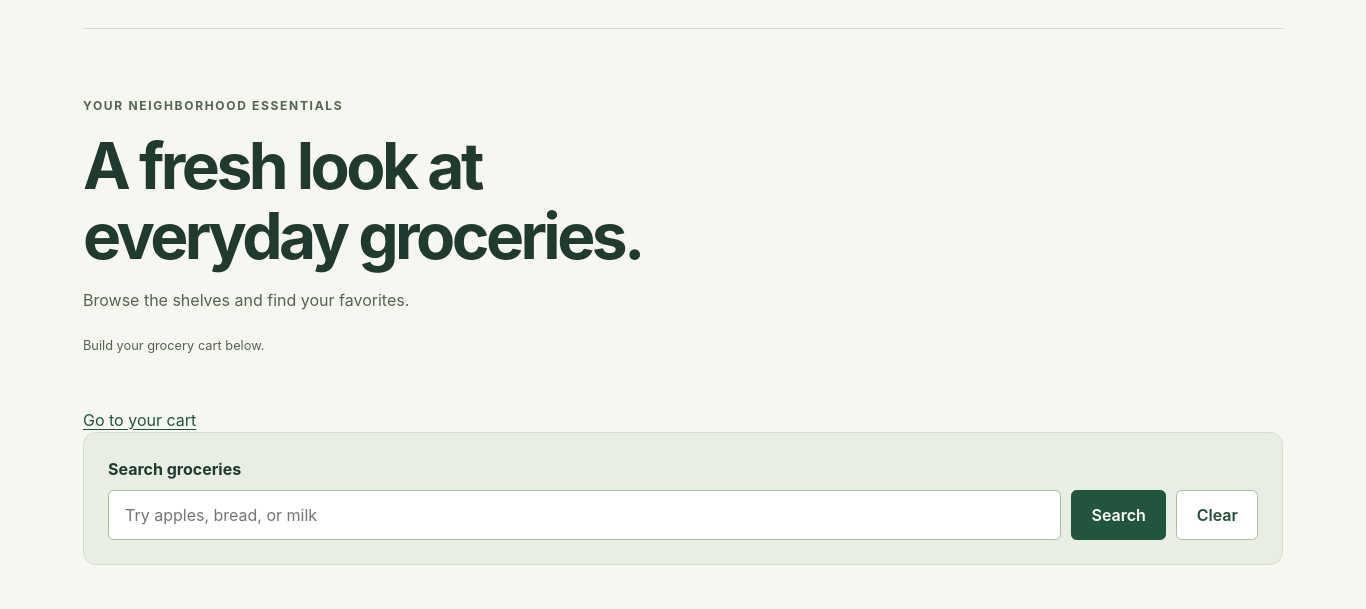
Test case: storefront cart › adds, updates absolutely, removes, displays cents and preserves search and input focus
Type "draft search" into the search field labelled "Search groceries" at [584, 515], box top-left (108, 490), bottom-right (1061, 540)
(page scrolled)
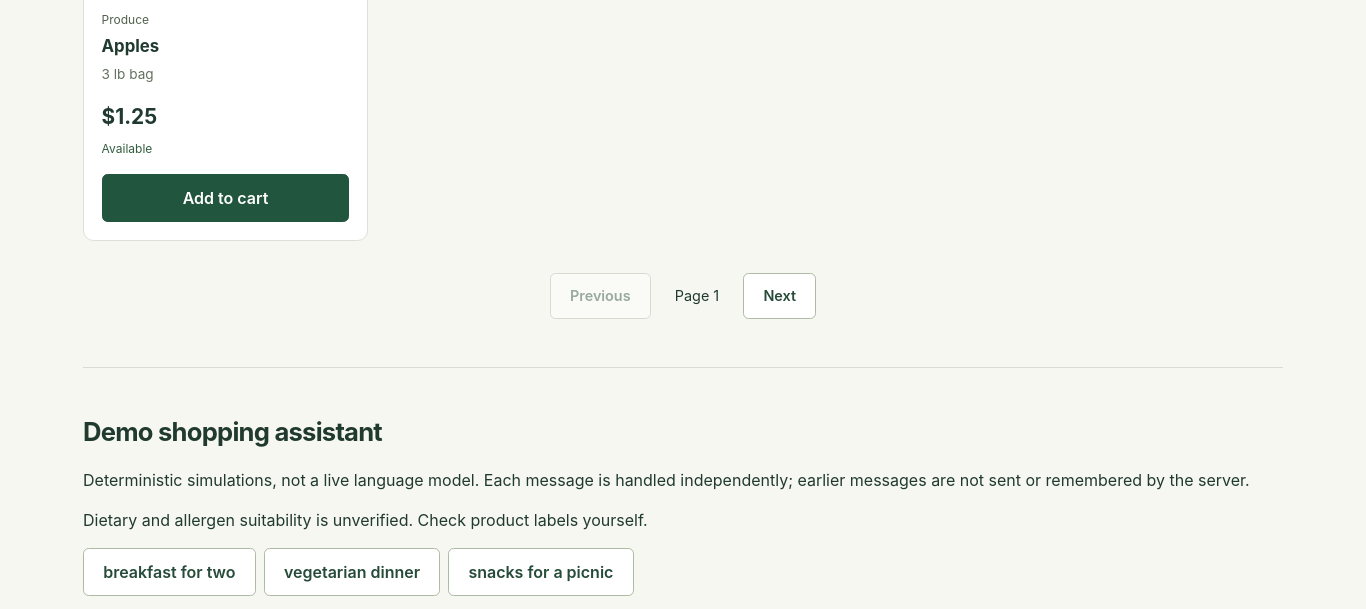
Click the button "Next" at [780, 296], box top-left (743, 273), bottom-right (816, 319)
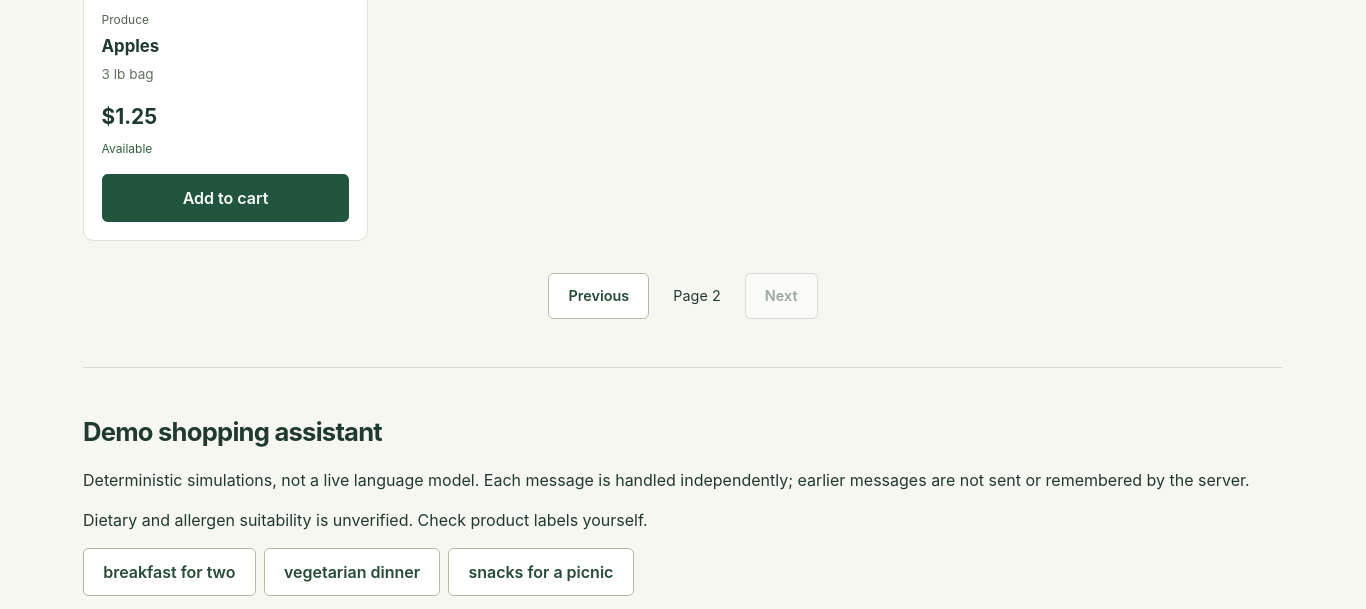
Result: the text "Page 2" is shown at top-left (673, 285), bottom-right (721, 307)
Click the button with aria-label "Add Apples to cart" at [226, 198], box top-left (102, 174), bottom-right (349, 222)
(page scrolled)
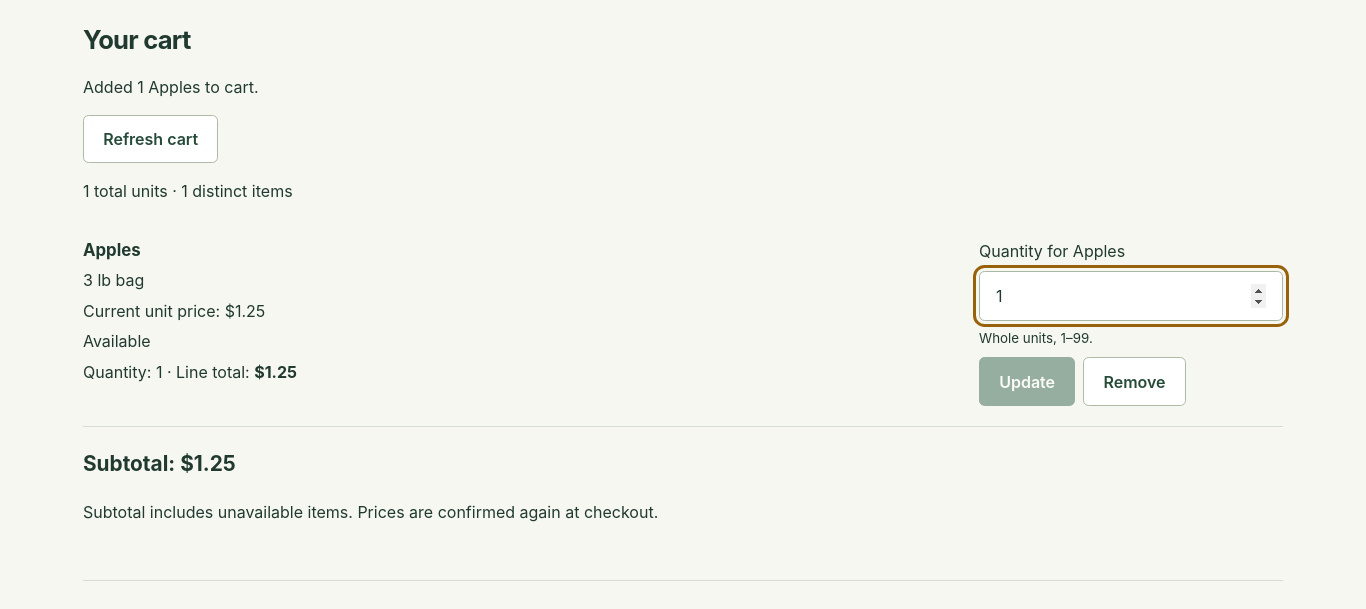
Result: the text "Subtotal: $1.25" is shown at top-left (83, 450), bottom-right (236, 476)
Replace the text in the number field labelled "Quantity for Apples" with "3" at [1131, 296], box top-left (979, 271), bottom-right (1283, 321)
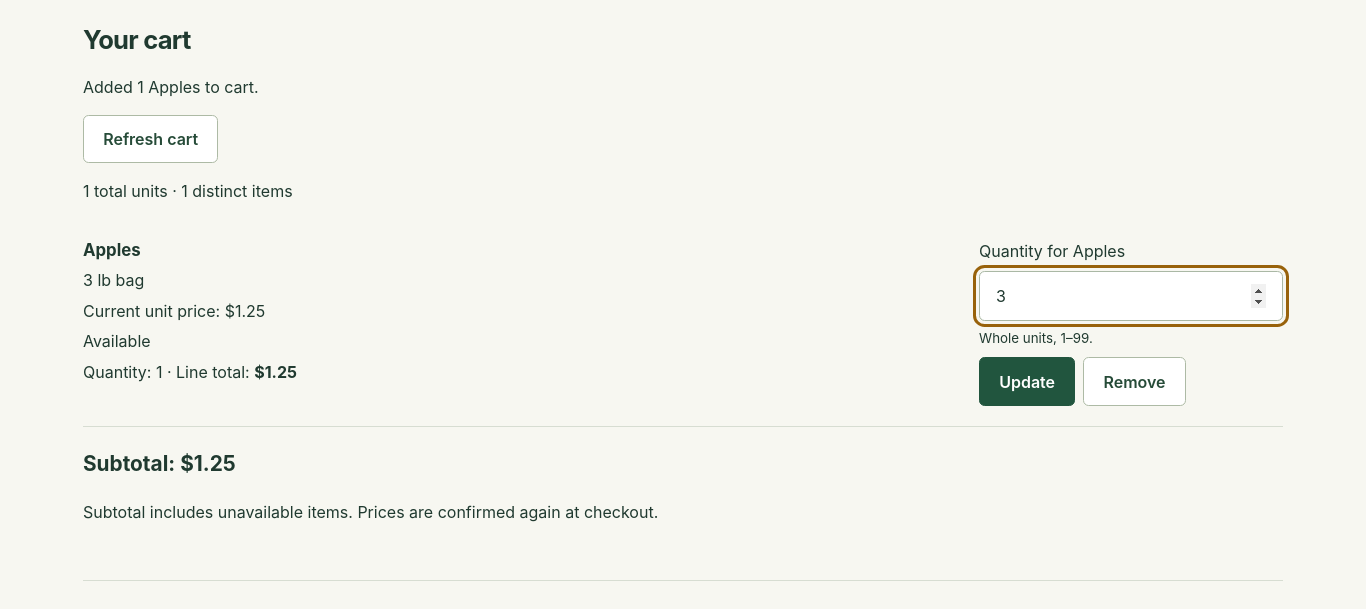
Submit the form labelled "Quantity for Apples", box top-left (979, 239), bottom-right (1283, 406)
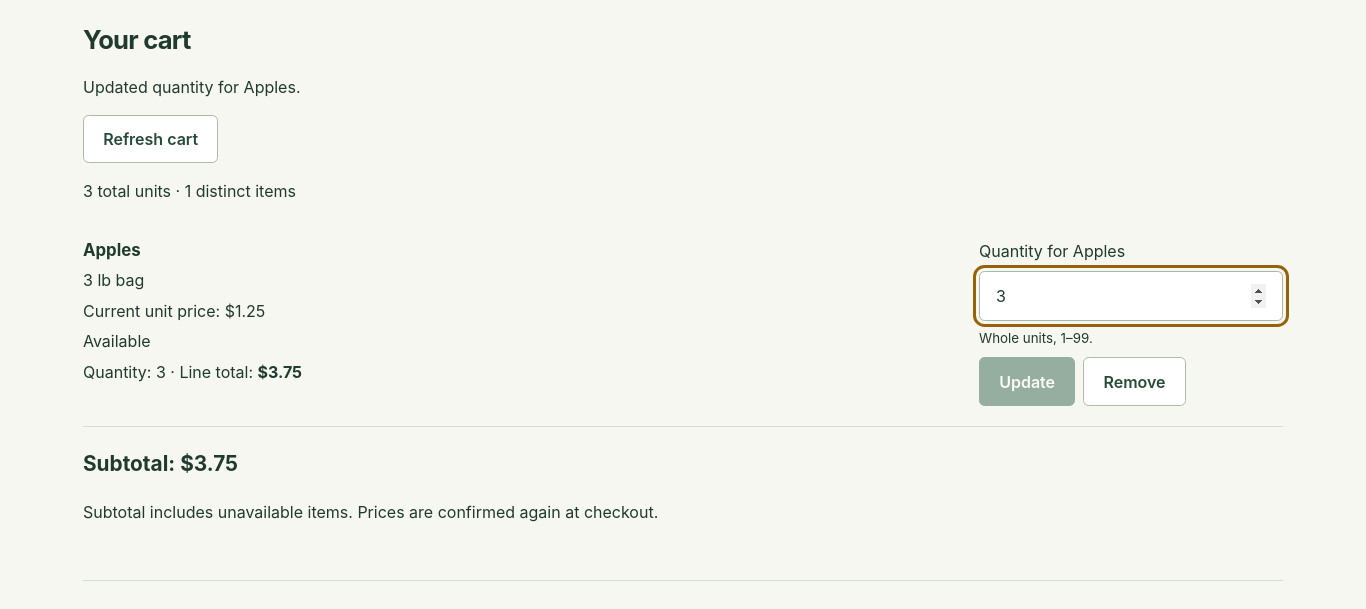
Result: the text "Subtotal: $3.75" is shown at top-left (83, 450), bottom-right (238, 476)
Result: the text "3 total units · 1 distinct items" is shown at top-left (83, 181), bottom-right (296, 201)
Click the button with aria-label "Remove Apples" at [1135, 382], box top-left (1083, 357), bottom-right (1186, 406)
(page scrolled)
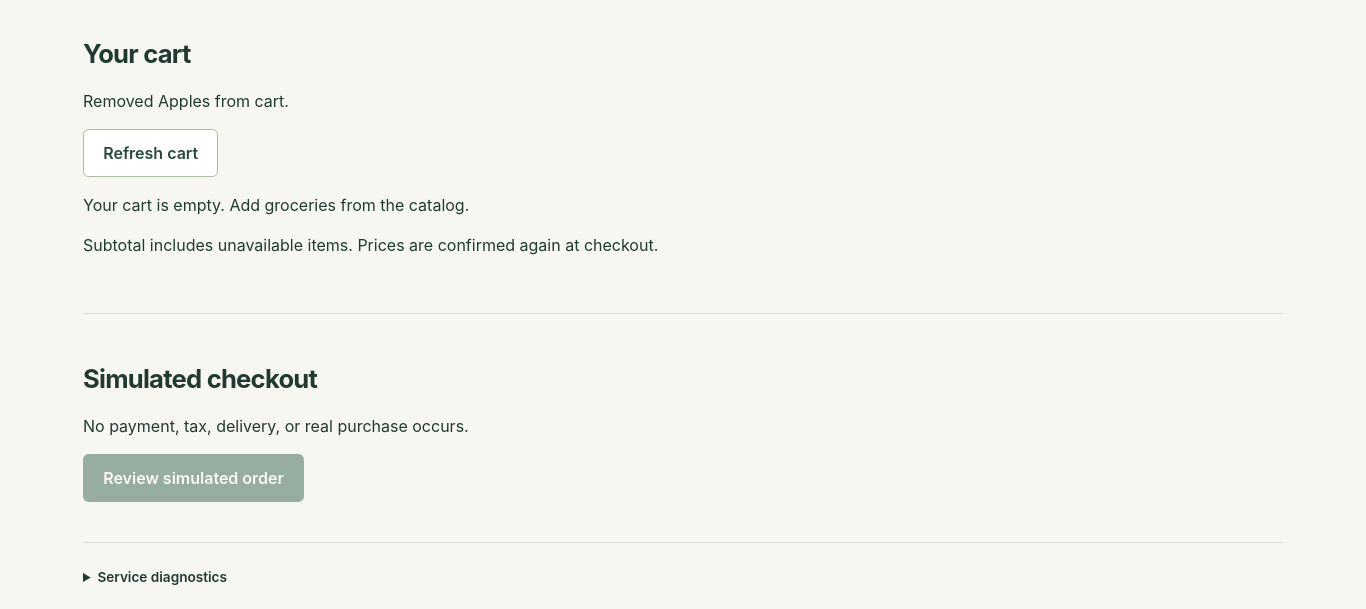
Result: the text "Your cart is empty. Add groceries from the catalog." is shown at top-left (83, 195), bottom-right (469, 215)
